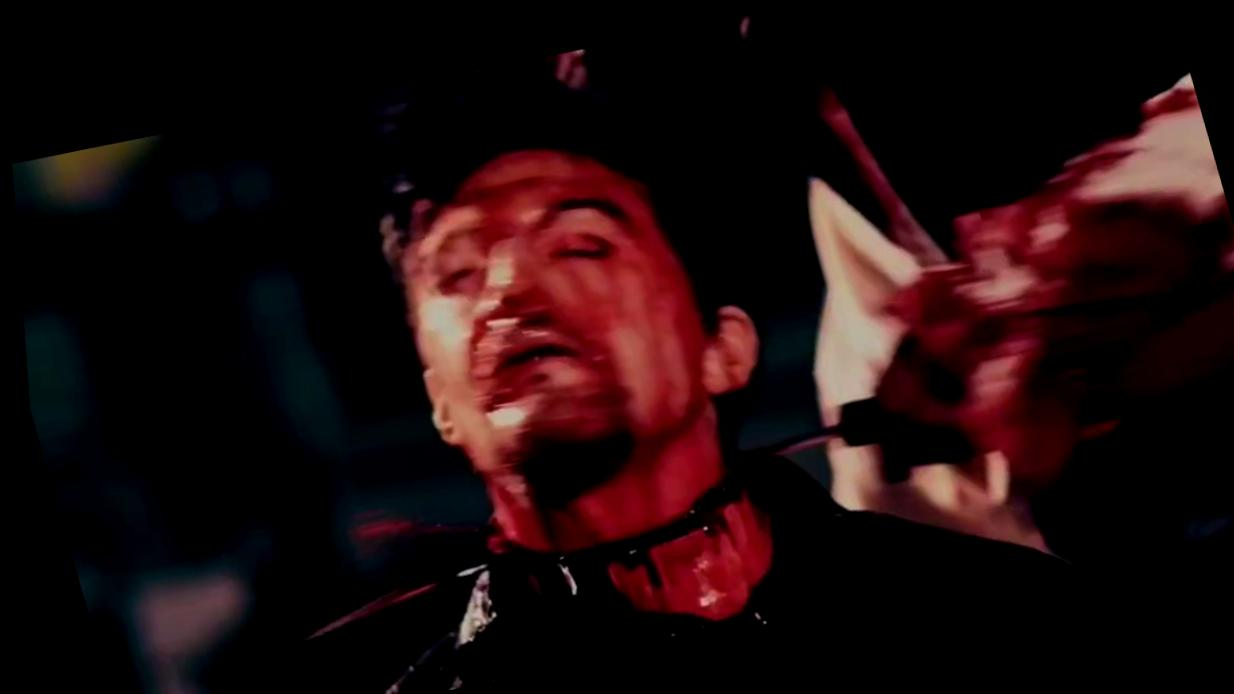Fire: (870, 134, 1234, 476), (345, 453, 763, 665), (290, 580, 429, 640), (1142, 74, 1199, 115)
